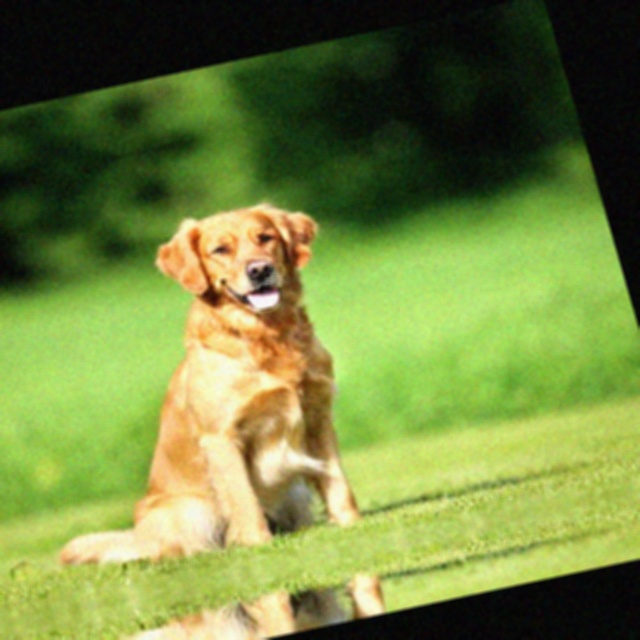dog: (0, 182, 400, 582), (80, 564, 427, 640), (0, 54, 270, 130)
